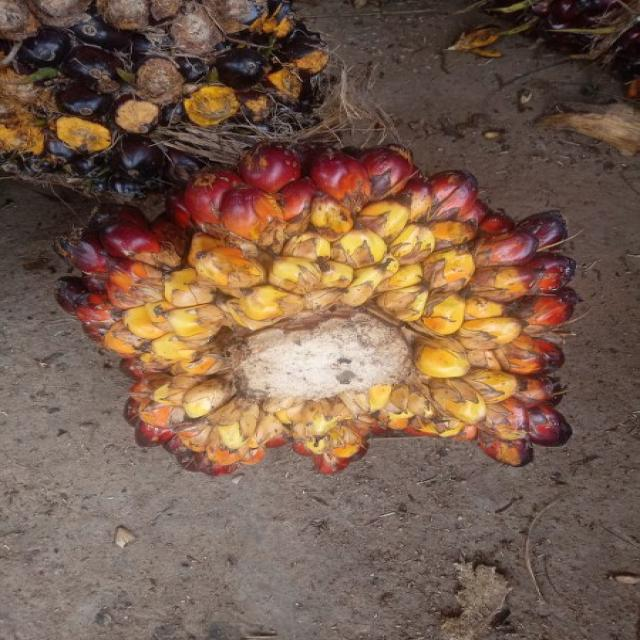fraksi 3: (57, 147, 564, 491)
